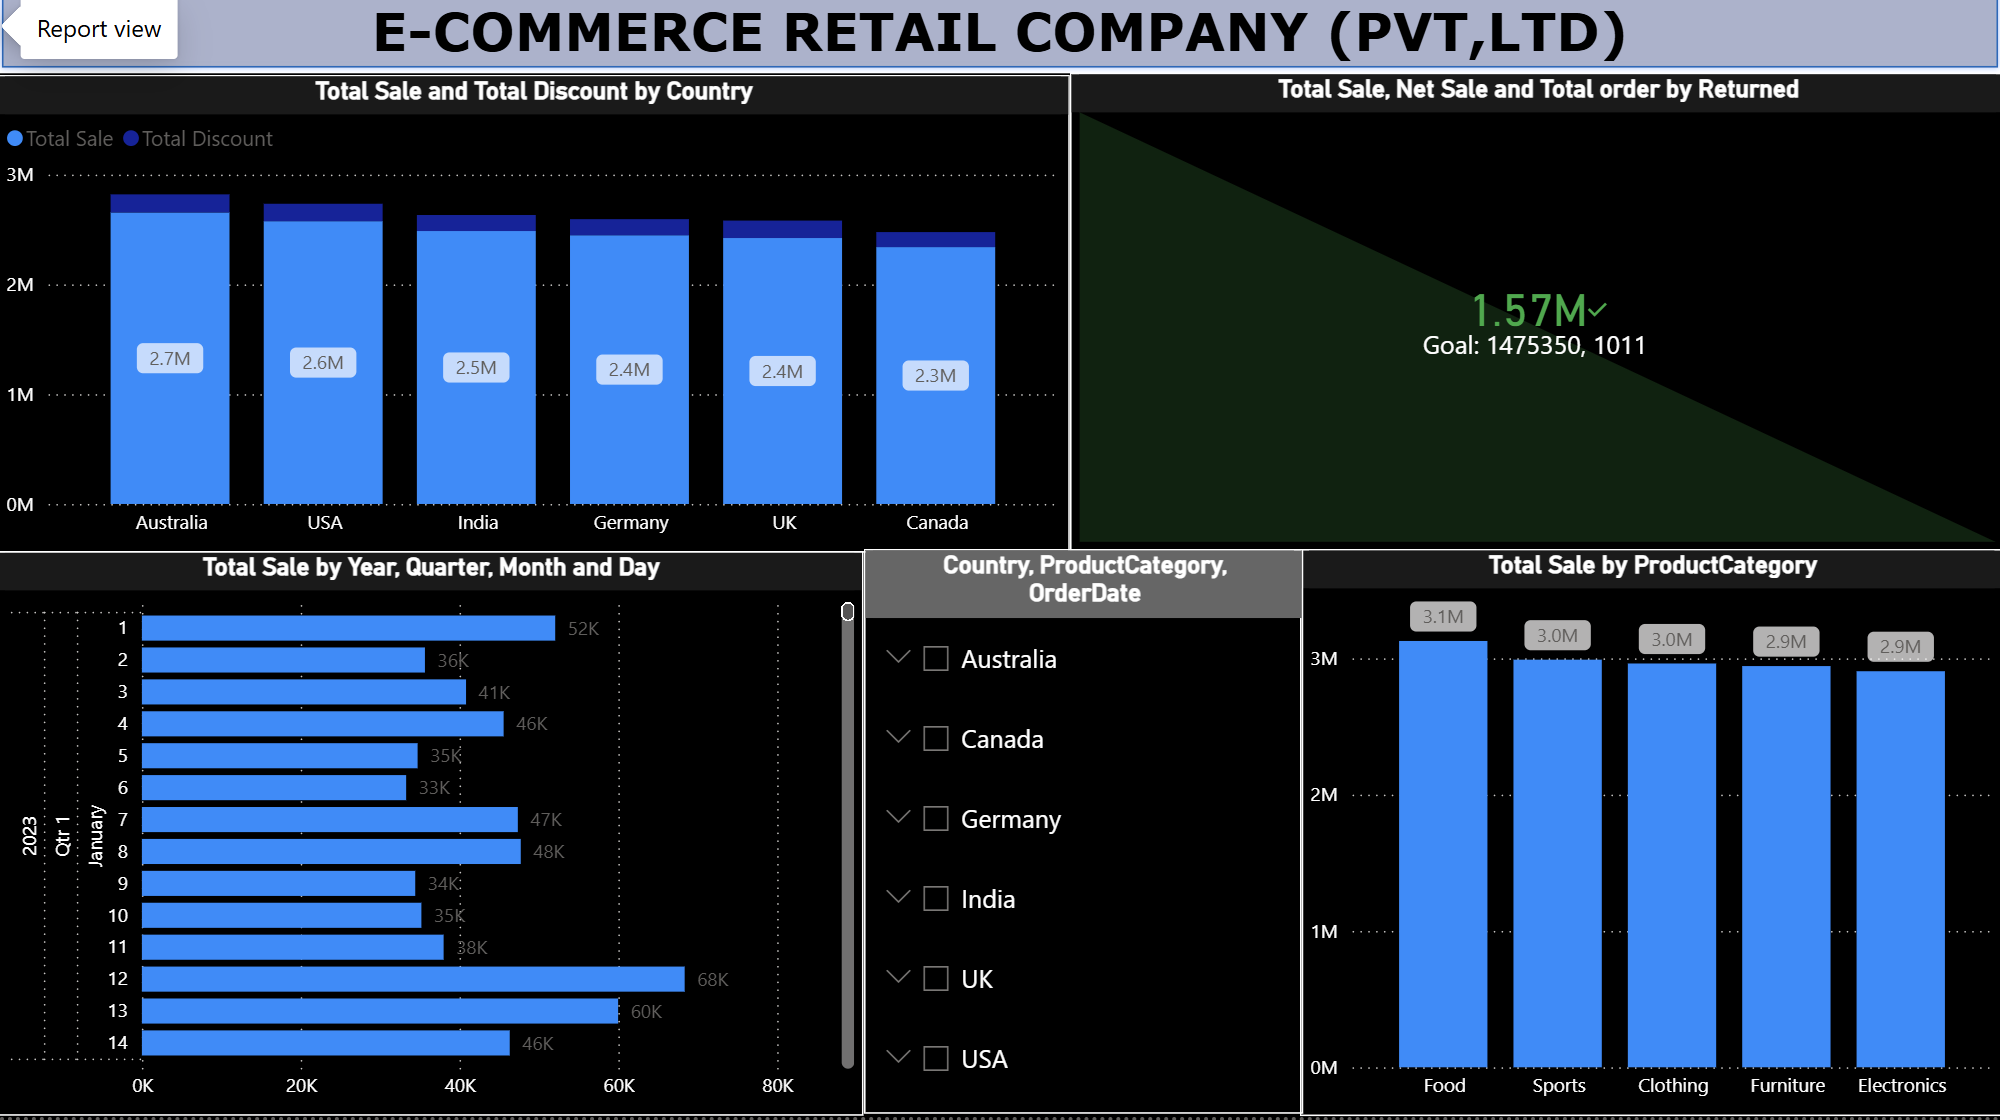

The dashboard page shown, as its layout file describes it:
{"tool":"powerbi","page":{"name":"DASHBOARD","canvas":[1280,720],"ordinal":0},"visuals":[{"type":"kpi","fields":{"Indicator":["Sheet1.Total Sale"],"Goal":["Sheet1.Net Sale","Sheet1.Total order"],"TrendLine":["Sheet1.Returned"]},"box":[684.1,55.2,595.9,304.8],"z":0},{"type":"shape","box":[0,0,1280,55.1],"z":1000},{"type":"lineClusteredColumnComboChart","fields":{"Category":["Sheet1.ProductCategory"],"Y":["Sheet1.Total Sale"]},"box":[831.7,358.6,448.3,361.4],"z":2000},{"type":"barChart","fields":{"Category":["Sheet1.OrderDate.Variation.Date Hierarchy.Year","Sheet1.OrderDate.Variation.Date Hierarchy.Quarter","Sheet1.OrderDate.Variation.Date Hierarchy.Month","Sheet1.OrderDate.Variation.Date Hierarchy.Day"],"Y":["Sheet1.Total Sale"]},"box":[0,360,553.1,360],"z":3000},{"type":"lineStackedColumnComboChart","fields":{"Y":["Sheet1.Total Sale","Sheet1.Total Discount"],"Category":["Sheet1.Country"]},"box":[0,55.7,684.3,304.3],"z":4000},{"type":"slicer","title":"Country, ProductCategory, OrderDate","fields":{"Values":["Sheet1.Country","Sheet1.ProductCategory","Sheet1.OrderDate"]},"box":[553.1,358.6,280,360],"z":5000}]}

Visuals, with their boxes in screenshot pixels (x1, y1, x2, y2):
kpi - Sheet1.Total Sale x Sheet1.Net Sale: region(1062, 67, 1999, 552)
shape: region(0, 0, 1999, 67)
lineClusteredColumnComboChart - Sheet1.ProductCategory x Sheet1.Total Sale: region(1296, 549, 1999, 1119)
barChart - Sheet1.OrderDate.Variation.Date Hierarchy.Year x Sheet1.OrderDate.Variation.Date Hierarchy.Quarter: region(0, 552, 853, 1119)
lineStackedColumnComboChart - Sheet1.Total Sale x Sheet1.Total Discount: region(0, 68, 1062, 552)
"Country, ProductCategory, OrderDate" slicer: region(853, 549, 1299, 1119)
